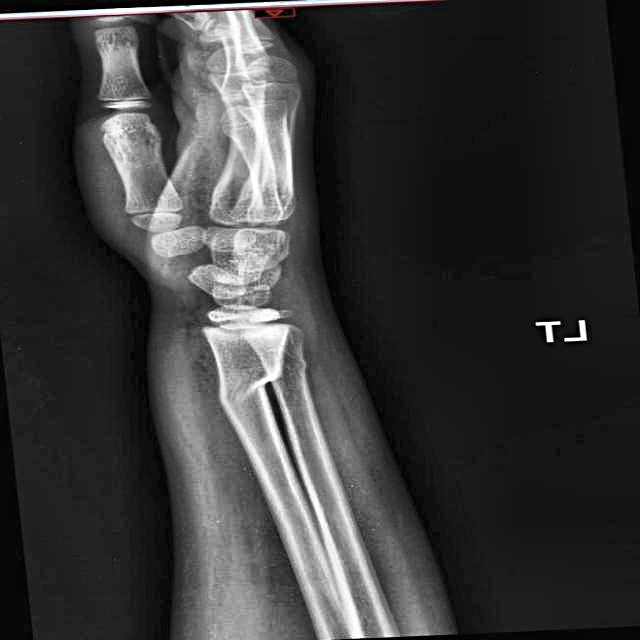Greenstick: (229, 357, 291, 407)
